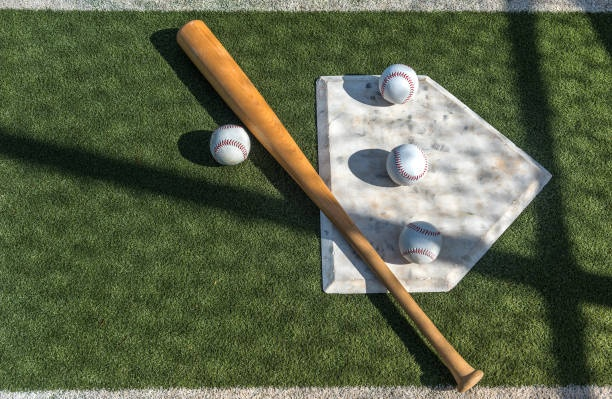bita: (177, 19, 477, 391)
